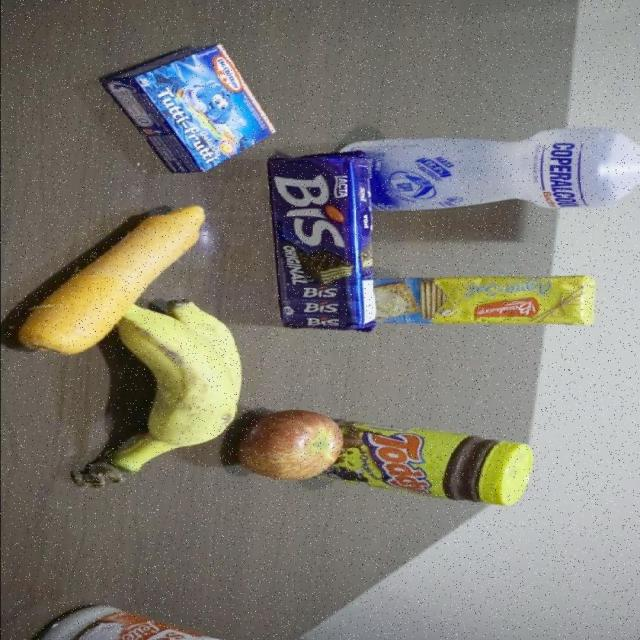AlcoholBottle: (380, 131, 640, 212)
Apple: (248, 407, 342, 491)
Banana: (42, 319, 244, 495)
Carrot: (24, 192, 214, 308)
ChocolatePowder: (354, 422, 534, 507)
Cracker: (378, 272, 596, 327)
Gelatine: (98, 48, 276, 169)
